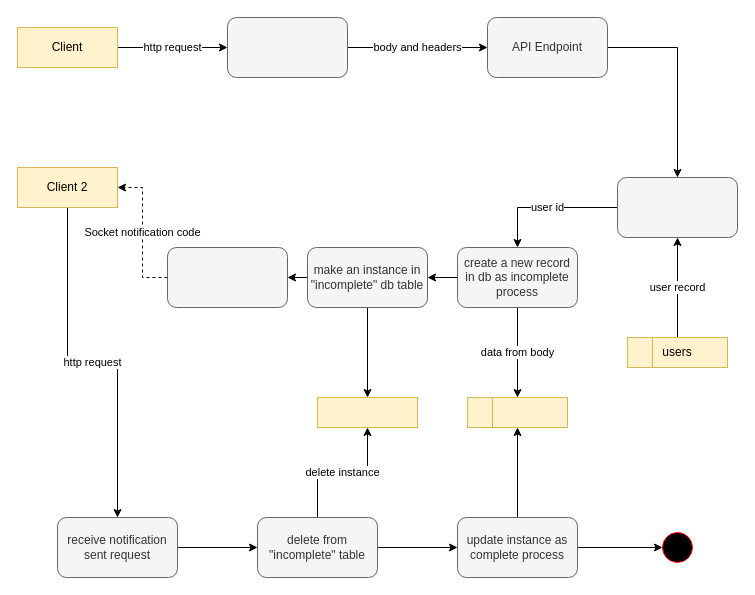
Image size: 755x595. Some labels were removed from this diagram. Here are the shapes that lost their labels. From the top down, the centre of each, then its label:
the point at 287,47: Recive http request
the point at 677,207: get user record
the point at 227,277: send client 2 a notification
the point at 367,412: incomplete table
the point at 517,412: table
